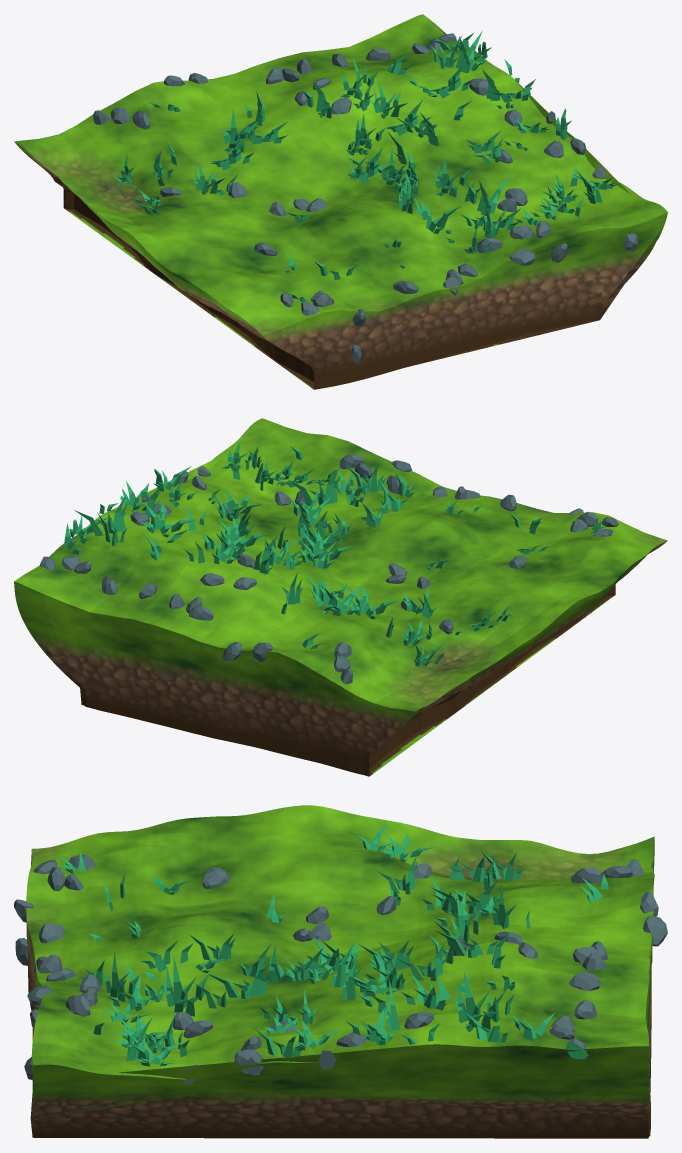
File: re_upper_float.fbx
The picture shows the model from 3 angles, top to bottom: view 1: azimuth 30°, elevation 25°; view 2: azimuth 150°, elevation 25°; view 3: azimuth 270°, elevation 25°; orthographic projection. The views are drawn at different scales.
Parts seen in each view (by area): view 1: left_edge.001; view 2: left_edge.001; view 3: left_edge.001.
Part boxes in pixels (x1,y1,x2,y2): left_edge.001: [14, 14, 667, 389]; left_edge.001: [14, 418, 667, 776]; left_edge.001: [14, 805, 667, 1138].
Bounding box in the file's own units: 603 × 201 × 638.
